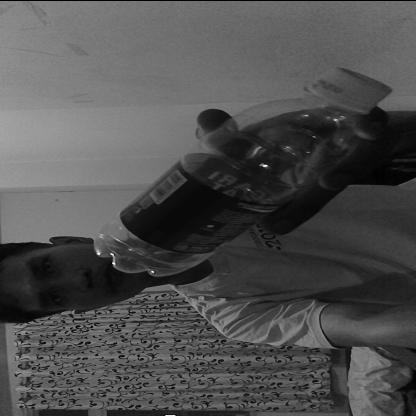plastic_bottles: (86, 64, 396, 278)
